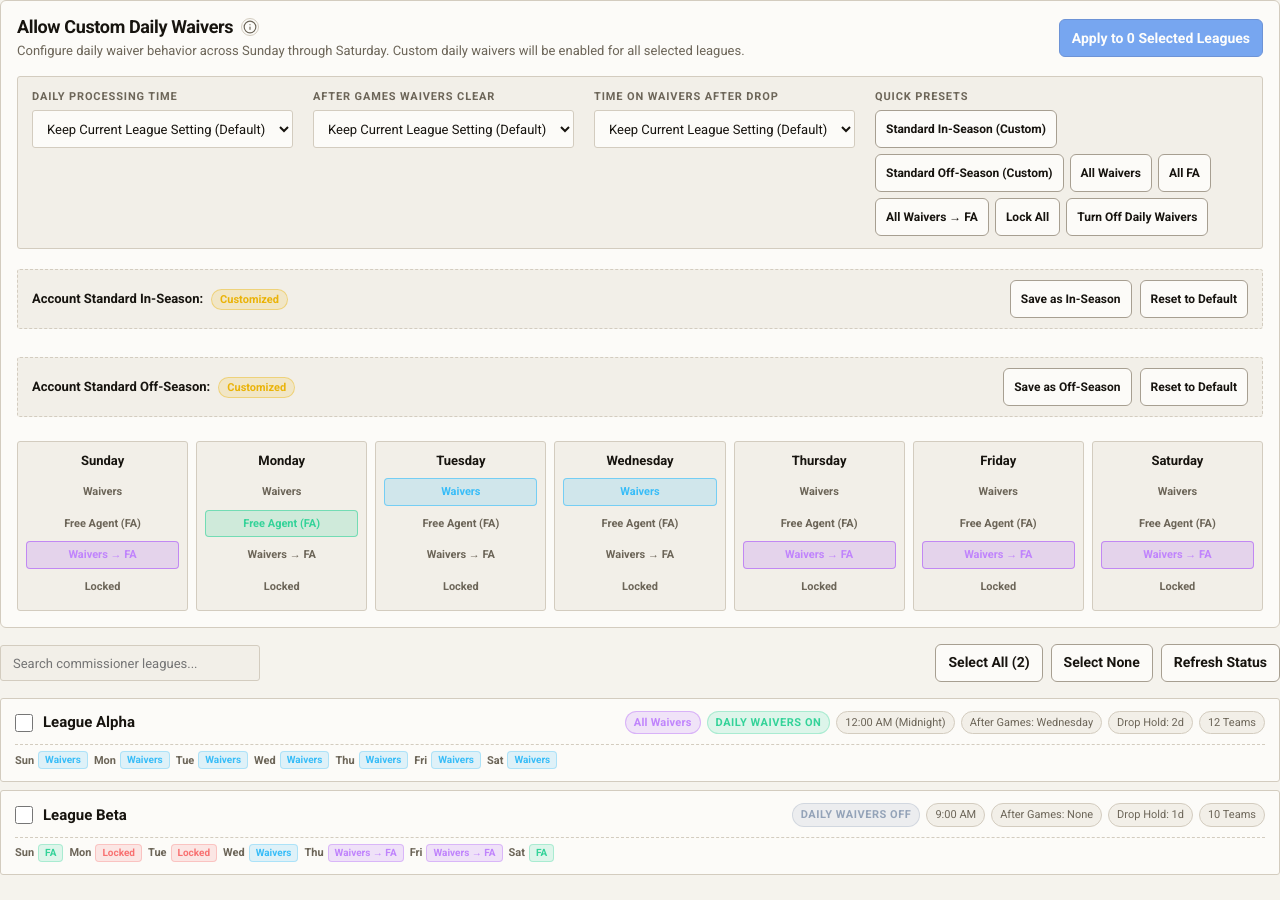
CommissionerWaiversTab › filters leagues with search input
This screenshot has width=1280, height=900.
Type "Beta" into the field with placeholder "Search commissioner leagues..." at (130, 663), box top-left (0, 645), bottom-right (260, 681)
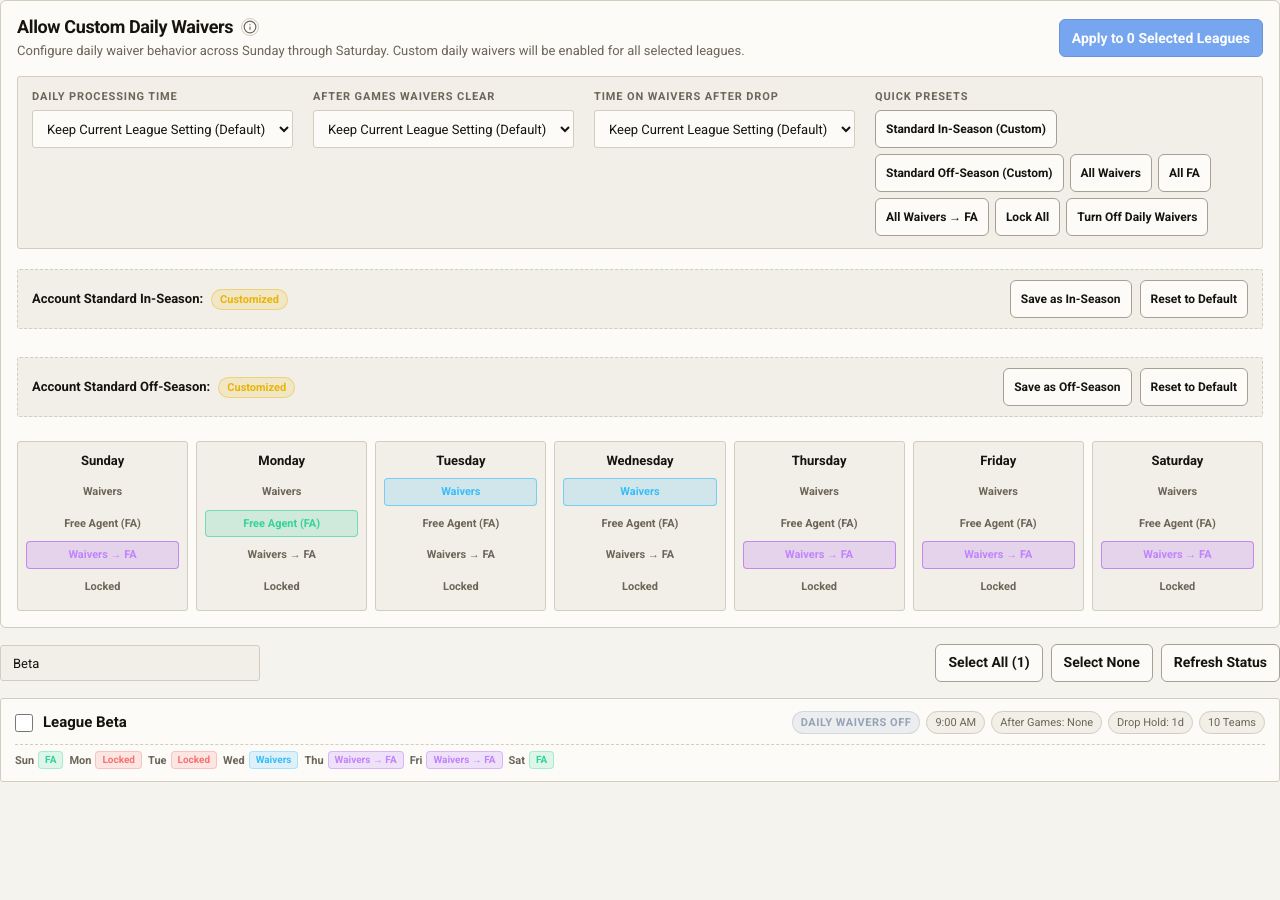
Expected: the text "League Beta" is shown, top-left (43, 712), bottom-right (127, 733)
Expected: the text "League Alpha" is gone
